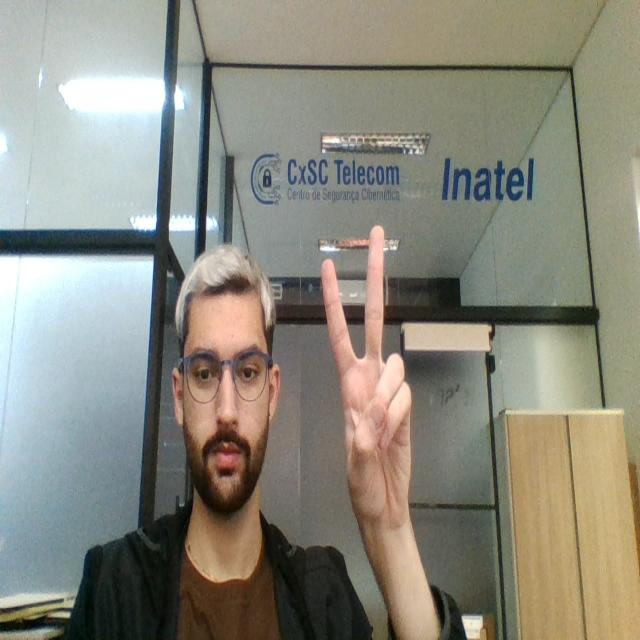V: (315, 222, 421, 530)
